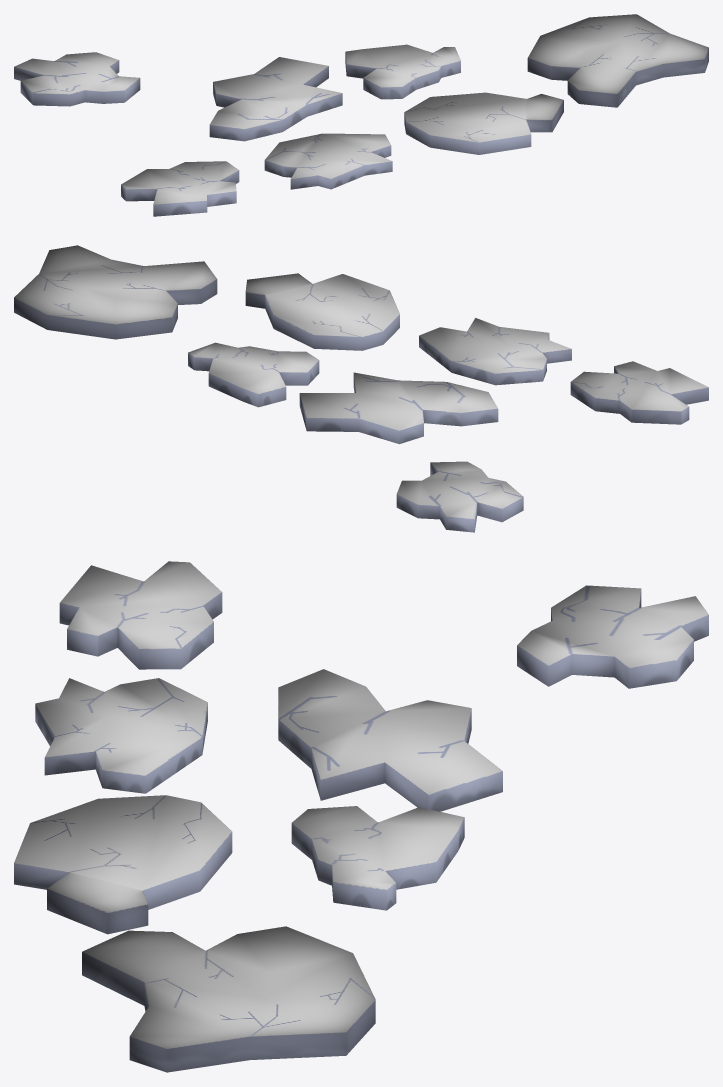
The model's file is icefloes.glb.
3 renders of one model, top to bottom at view 1: azimuth 30°, elevation 25°; view 2: azimuth 150°, elevation 25°; view 3: azimuth 270°, elevation 25°, orthographic. The views are drawn at different scales.
Visible parts, largest first — view 1: icefloe006, icefloe005, icefloe001, icefloe002, icefloe003, icefloe, icefloe004; view 2: icefloe006, icefloe001, icefloe005, icefloe002, icefloe, icefloe003, icefloe004; view 3: icefloe006, icefloe005, icefloe001, icefloe002, icefloe003, icefloe, icefloe004.
Part boxes in pixels (x1=…): icefloe006: x1=527, y1=14, x2=708, y2=107; icefloe005: x1=404, y1=92, x2=563, y2=154; icefloe001: x1=209, y1=57, x2=342, y2=141; icefloe002: x1=264, y1=133, x2=392, y2=189; icefloe003: x1=14, y1=52, x2=140, y2=106; icefloe: x1=121, y1=161, x2=239, y2=216; icefloe004: x1=345, y1=44, x2=460, y2=99; icefloe006: x1=14, y1=245, x2=217, y2=339; icefloe001: x1=299, y1=372, x2=498, y2=444; icefloe005: x1=245, y1=273, x2=399, y2=350; icefloe002: x1=419, y1=318, x2=571, y2=385; icefloe: x1=570, y1=361, x2=708, y2=424; icefloe003: x1=396, y1=461, x2=523, y2=532; icefloe004: x1=188, y1=342, x2=319, y2=407; icefloe006: x1=82, y1=926, x2=375, y2=1072; icefloe005: x1=14, y1=795, x2=232, y2=934; icefloe001: x1=278, y1=669, x2=502, y2=811; icefloe002: x1=35, y1=678, x2=207, y2=793; icefloe003: x1=517, y1=585, x2=708, y2=688; icefloe: x1=59, y1=561, x2=222, y2=669; icefloe004: x1=291, y1=806, x2=464, y2=910.
Size of the model in its own units: 1445 by 32.55 by 870.
1 material, 1 textured.
